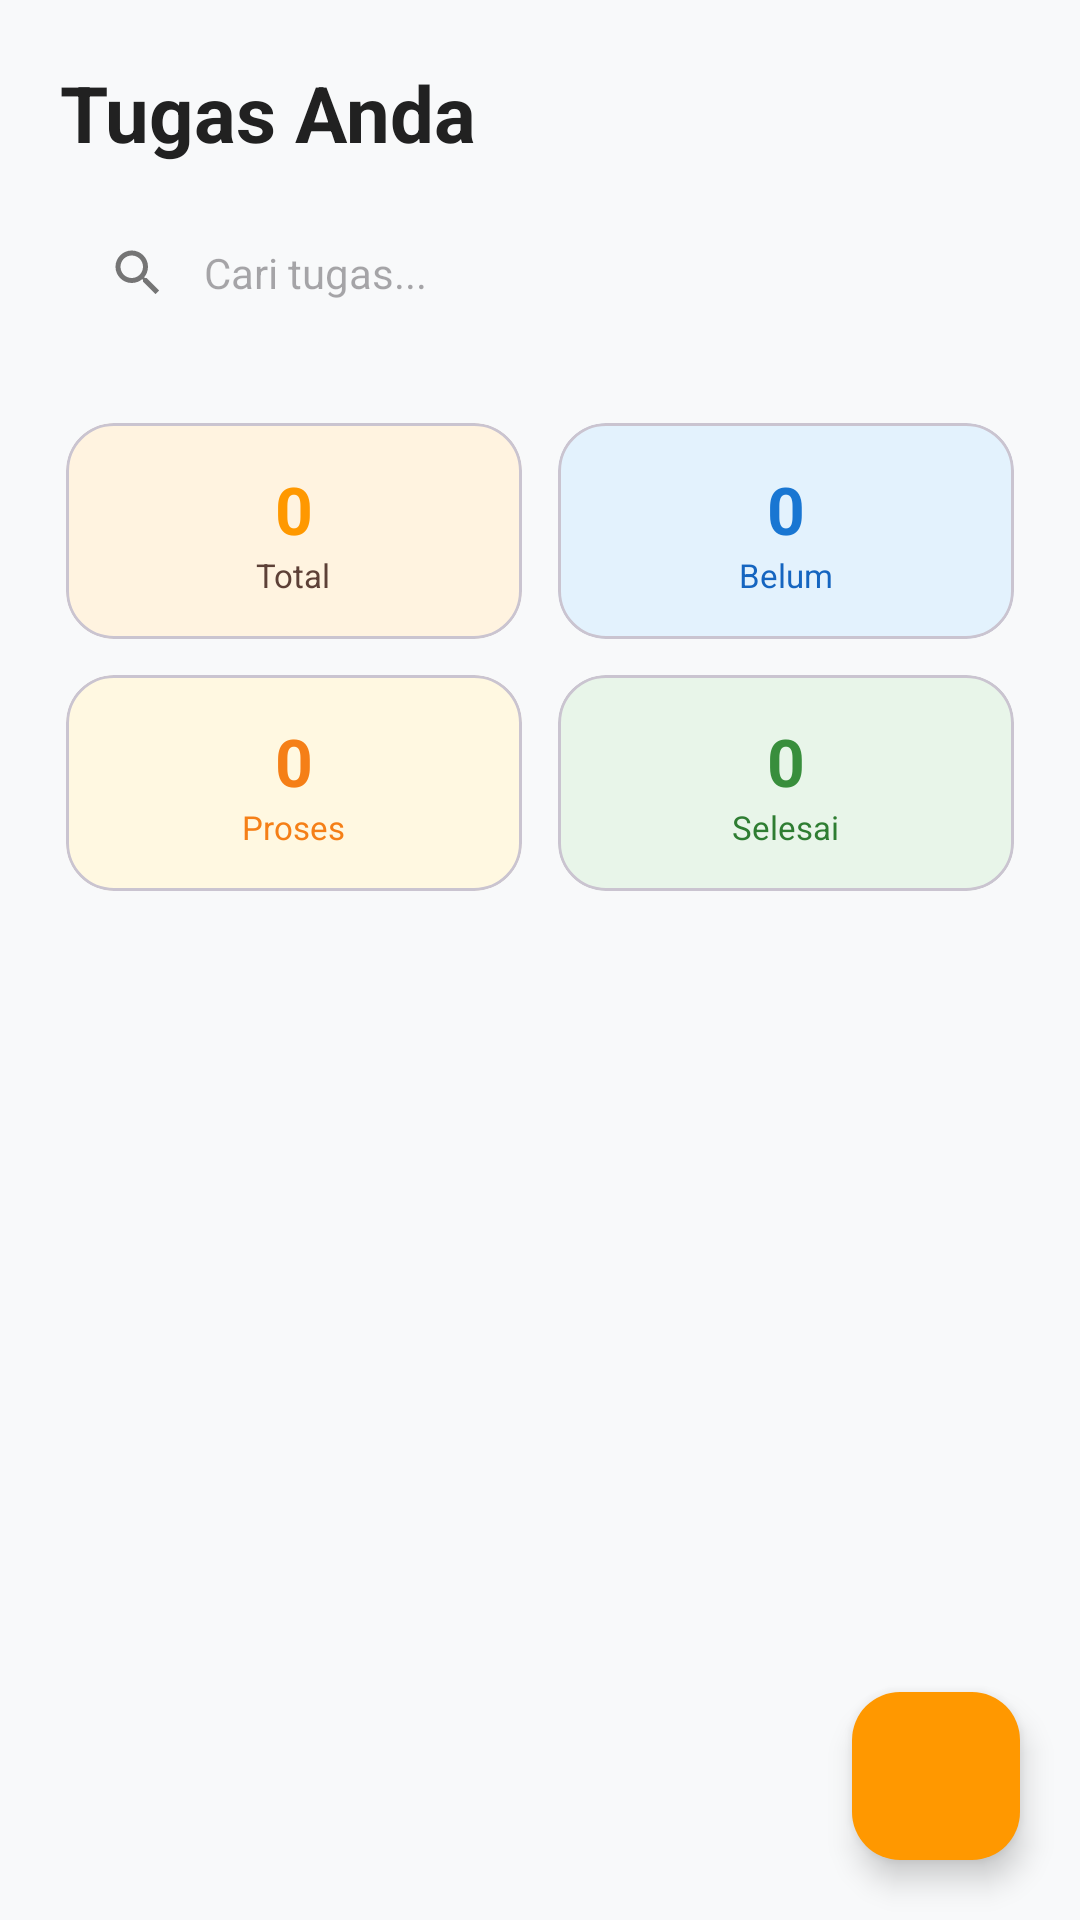

Locate icon controls on the screen. Image size 1080px×1920px, boxes as (x1, y1, x2, y2).
search: (115, 250, 159, 294)
